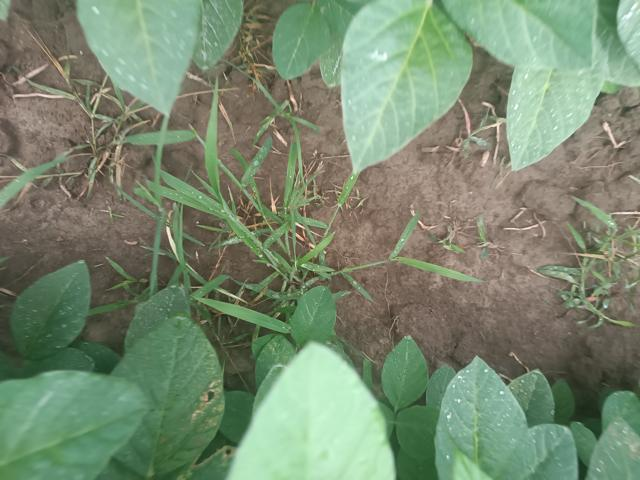bad weed: (156, 119, 448, 319), (19, 52, 145, 240), (527, 200, 640, 327)
